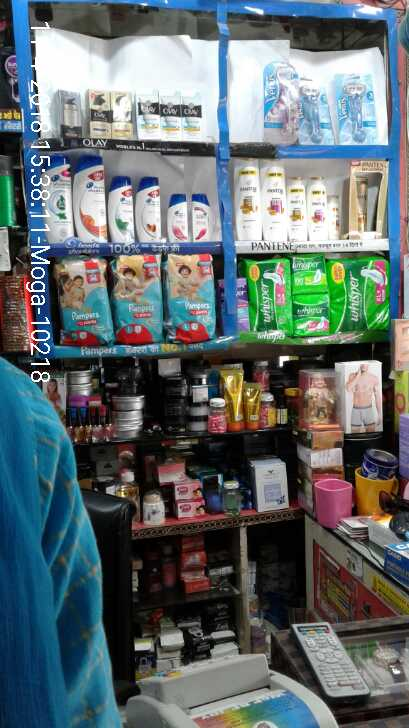venus: (265, 60, 297, 142), (339, 73, 376, 143), (299, 78, 336, 144)
